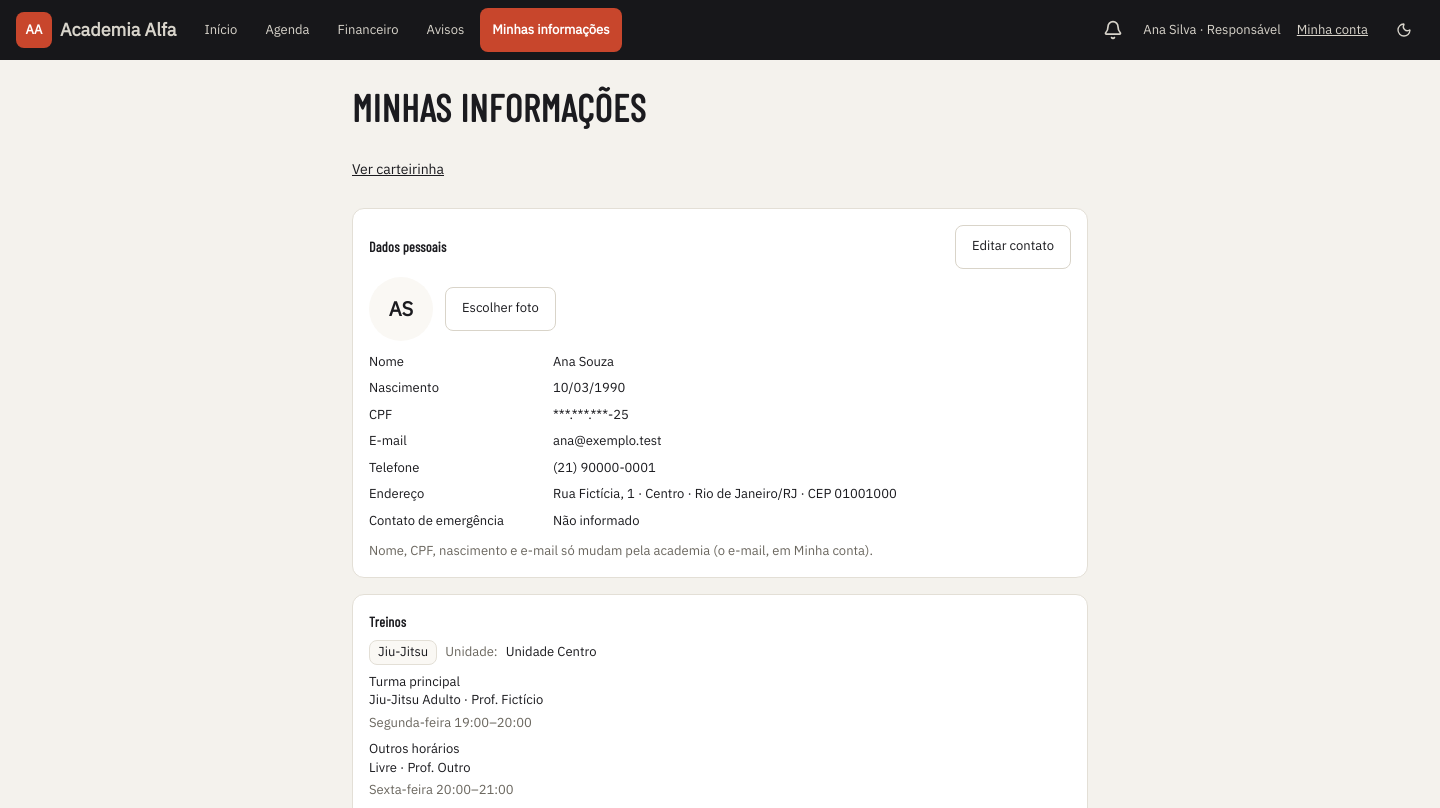
PortalInfoPage (RF-POR-07) › dados: editar o contato envia só os campos da lista e mostra o dado novo
Click the button "Editar contato" at (1013, 246), box [955,224,1071,268]
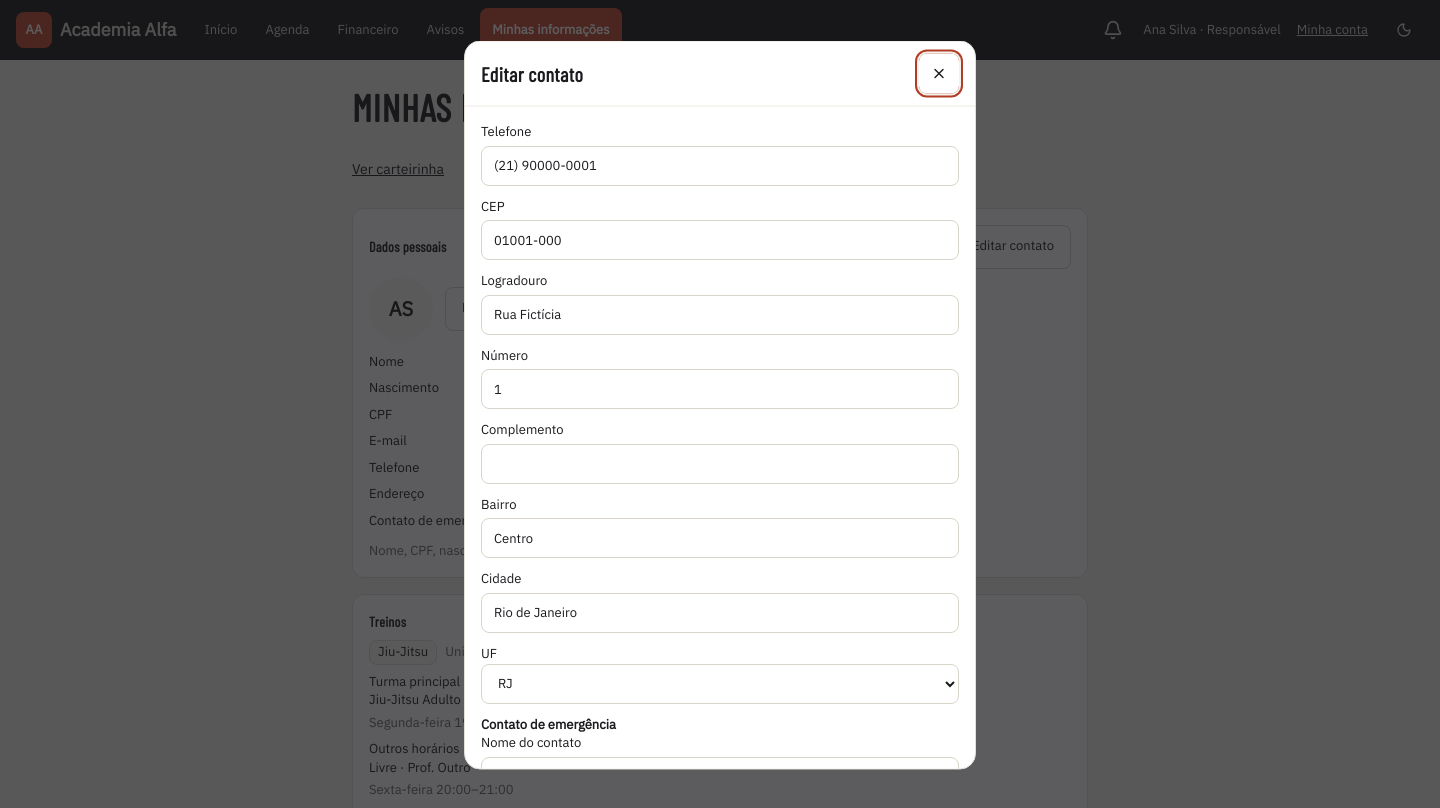
Replace the text in the field labelled "Logradouro" with "Rua Nova" at (720, 314), box [481,294,959,334]
(page scrolled)
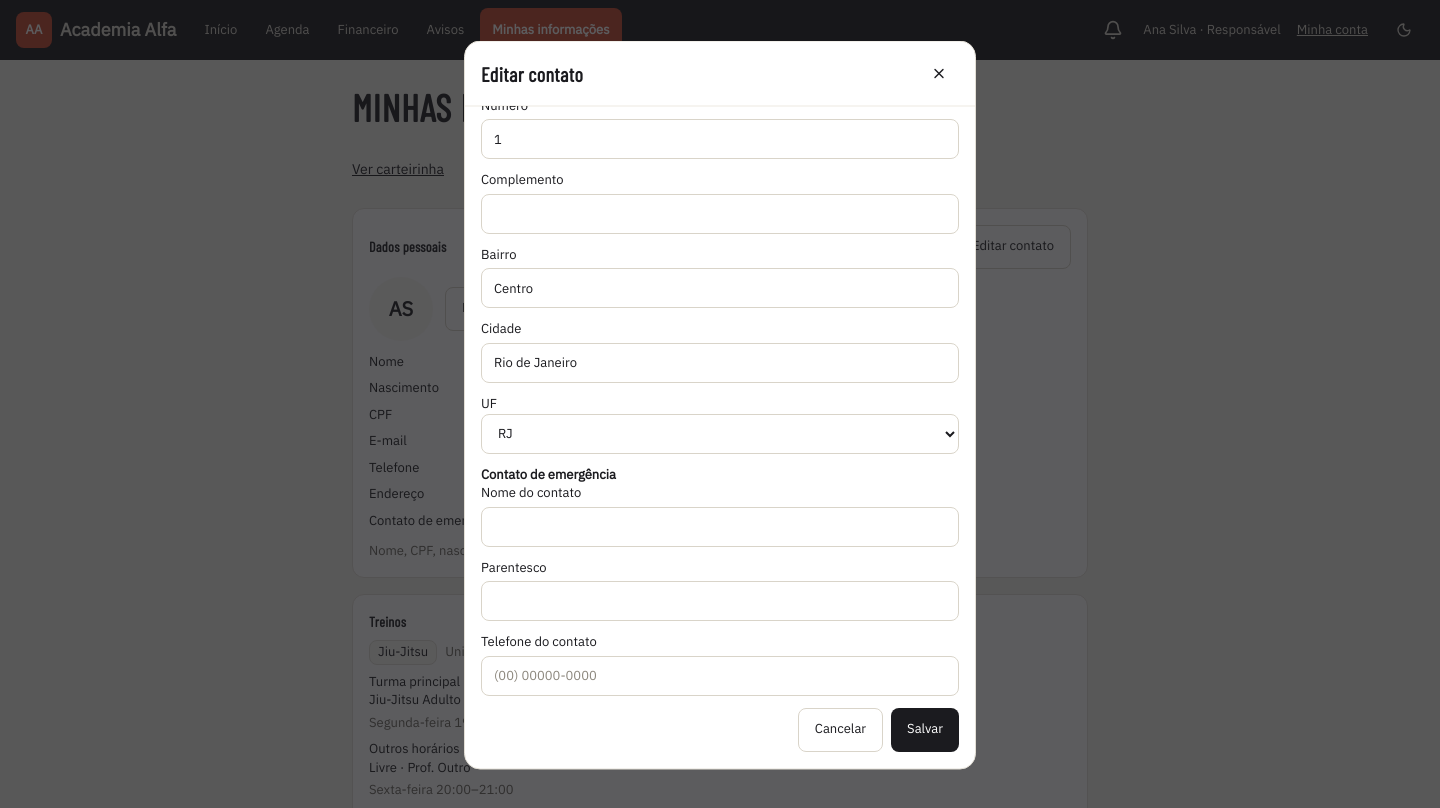
Click the button "Salvar" at (925, 730), box [891,708,959,752]
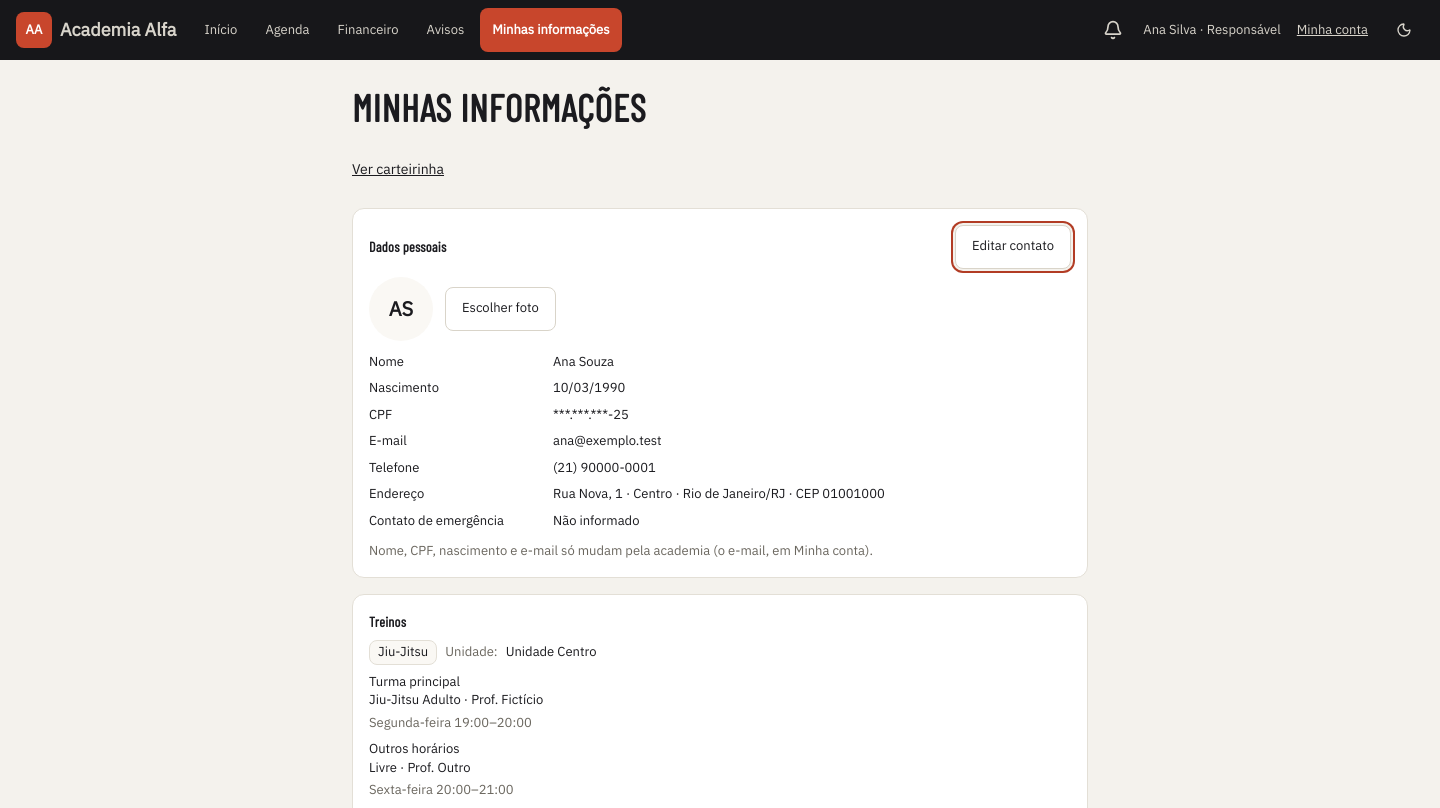
Check: the dialog is gone
Check: the text "Rua Nova, 1 · Centro · Rio de Janeiro/RJ · CEP 01001000" is shown, box [553,485,885,504]
